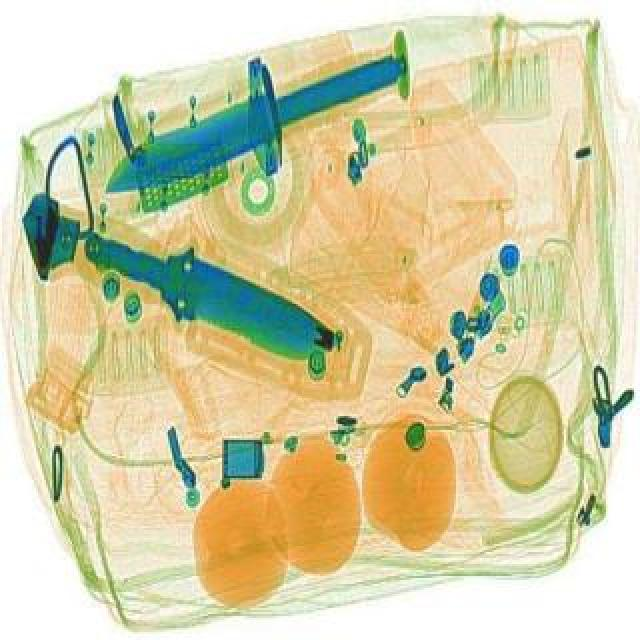knife: (74, 2, 442, 232), (64, 202, 352, 382)
